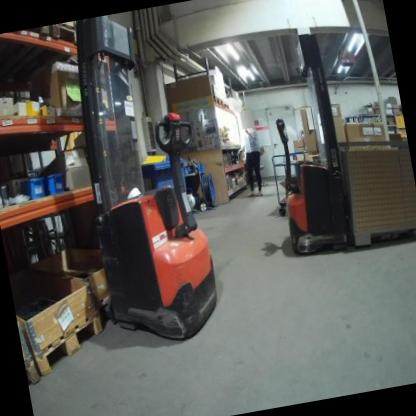pallet: (30, 309, 110, 379), (18, 26, 53, 47), (23, 354, 41, 392), (49, 23, 80, 44)
pallet_truck: (52, 4, 235, 361), (243, 20, 360, 265)
small_load_carrier: (19, 175, 46, 200), (44, 171, 65, 195)
stillage: (332, 128, 416, 253)
